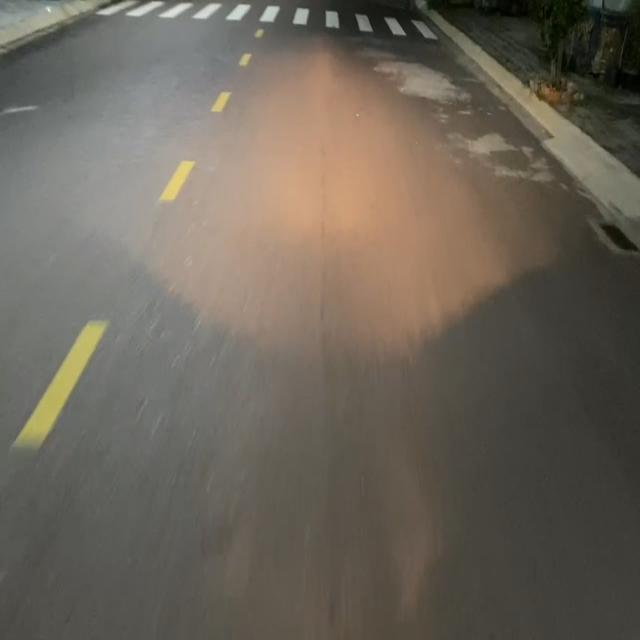walk-crossing: (103, 0, 441, 40)
